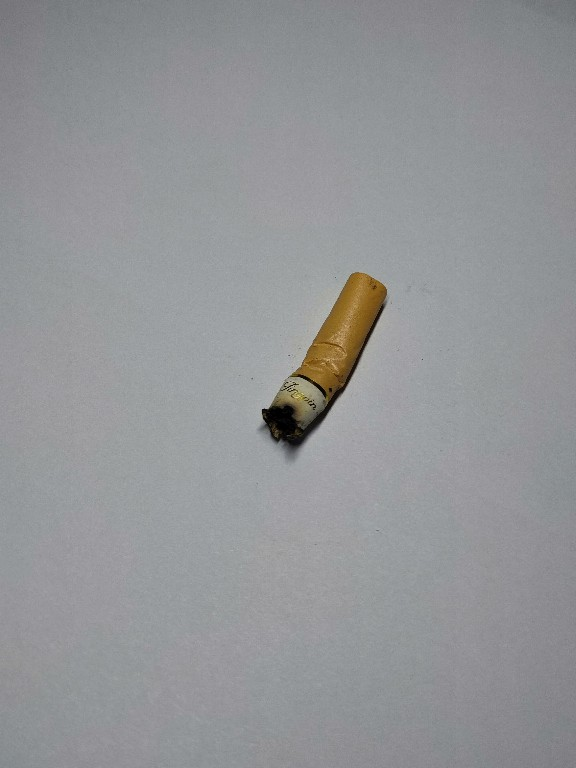cigarette: (256, 269, 390, 452)
